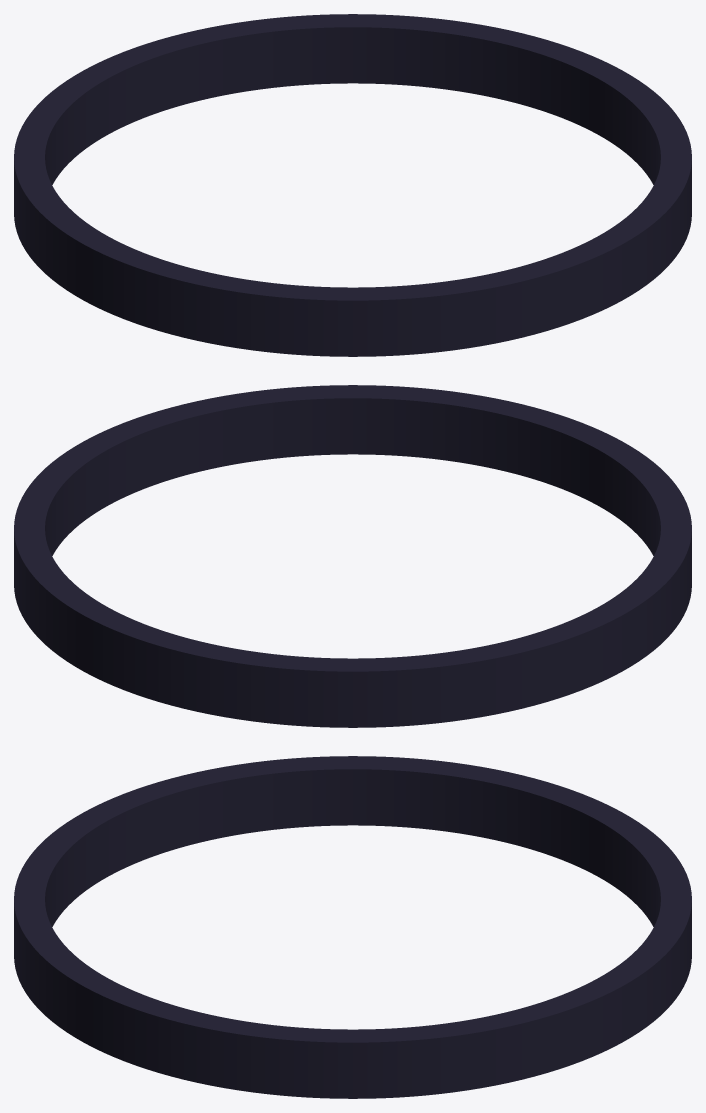
The model's file is separator_ring.dae.
3 renders of one model, top to bottom at view 1: azimuth 30°, elevation 25°; view 2: azimuth 150°, elevation 25°; view 3: azimuth 270°, elevation 25°, orthographic.
Parts seen in each view (by area): view 1: SeparatorRing; view 2: SeparatorRing; view 3: SeparatorRing.
Boxes of the visible parts, x1,y1,x2,y2 form: SeparatorRing: [14, 14, 691, 356]; SeparatorRing: [14, 385, 691, 727]; SeparatorRing: [14, 756, 691, 1098].
Bounding box in the file's own units: 0.2186 × 0.2186 × 0.02.
Materials: 1 (1 with a texture image).
